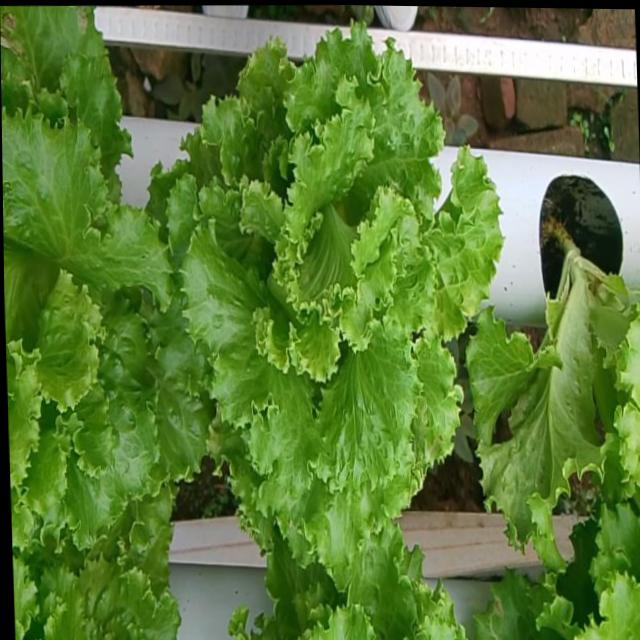Mature: (167, 25, 502, 564), (2, 102, 207, 545)
